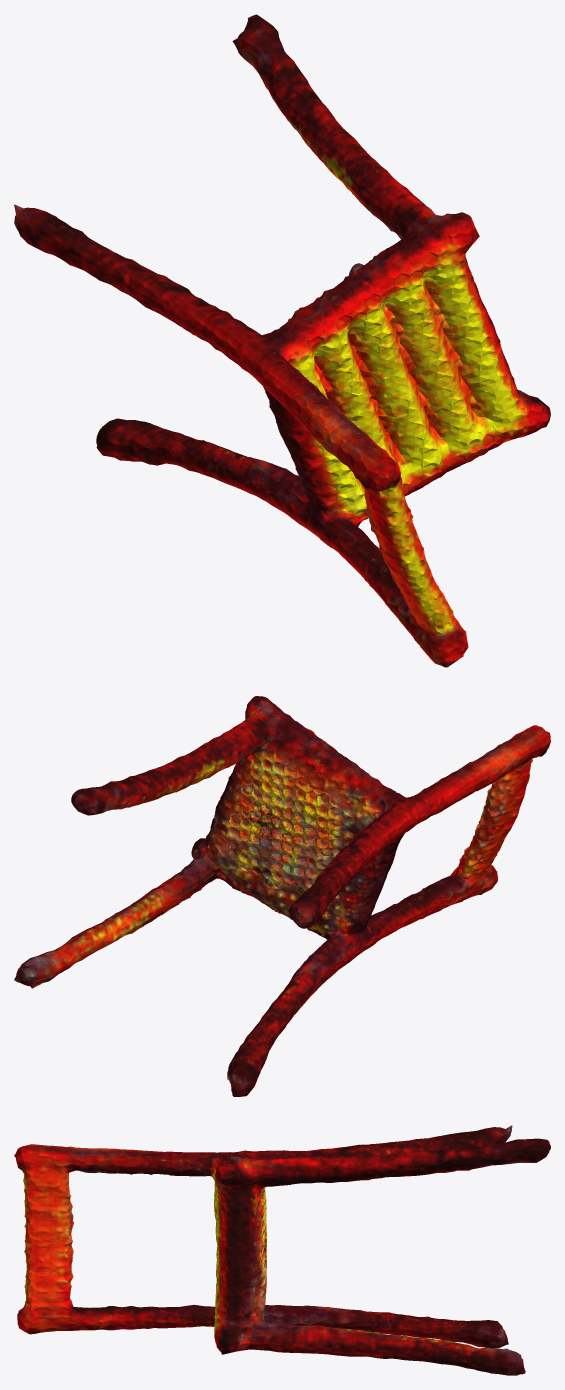
Rendered from Chair_1.obj.
The picture shows the model from 3 angles, top to bottom: view 1: azimuth 30°, elevation 25°; view 2: azimuth 150°, elevation 25°; view 3: azimuth 270°, elevation 25°; orthographic projection. The views are drawn at different scales.
Visible parts, largest first — view 1: object; view 2: object; view 3: object.
Part boxes in pixels (<box>): object: <box>14,14,550,667</box>; object: <box>14,696,550,1096</box>; object: <box>14,1125,550,1375</box>.
Size of the model in its own units: 1.01 by 0.9739 by 1.76.
Materials: 1 (1 with a texture image).
